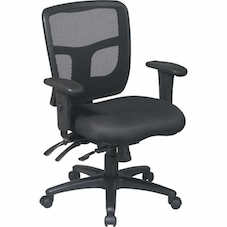chair: (30, 0, 195, 222)
